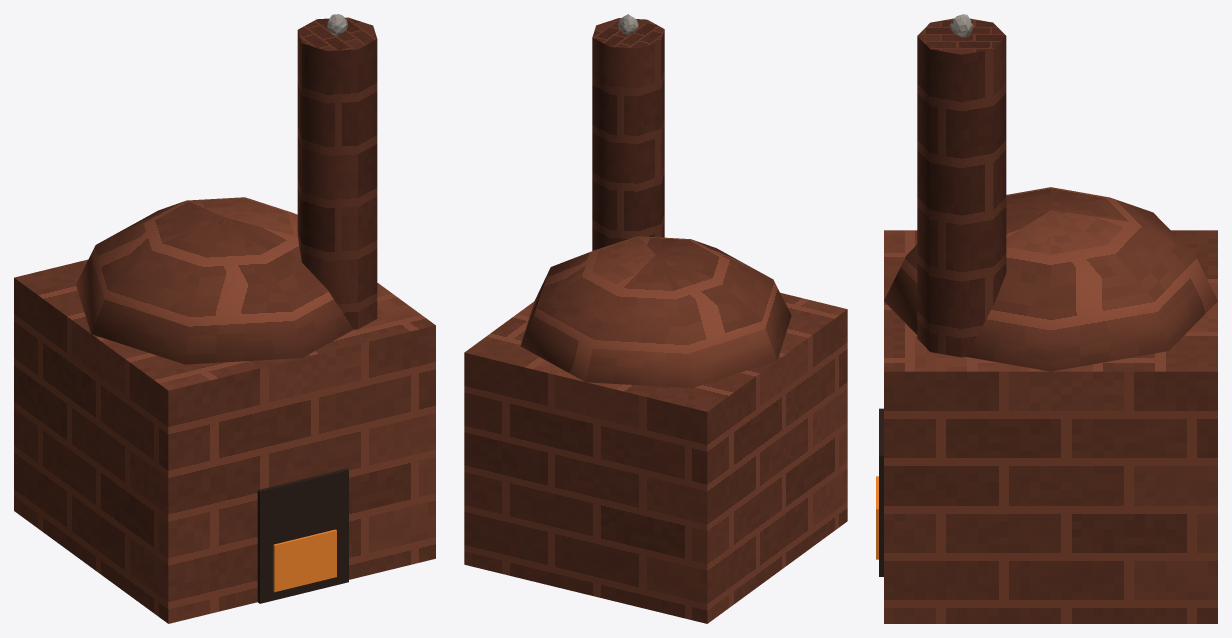
File: horno-ladrillos.glb
3 renders of one model, left to right at view 1: azimuth 30°, elevation 25°; view 2: azimuth 150°, elevation 25°; view 3: azimuth 270°, elevation 25°, orthographic. The views are drawn at different scales.
Parts seen in each view (by area): view 1: horno-ladrillos; view 2: horno-ladrillos; view 3: horno-ladrillos.
Part boxes in pixels (x1,y1,x2,y2): horno-ladrillos: (14,14,435,623); horno-ladrillos: (464,14,847,623); horno-ladrillos: (876,14,1217,623).
Bounding box in the file's own units: 3 × 5.71 × 3.07.
Materials: 5 (2 with a texture image).
